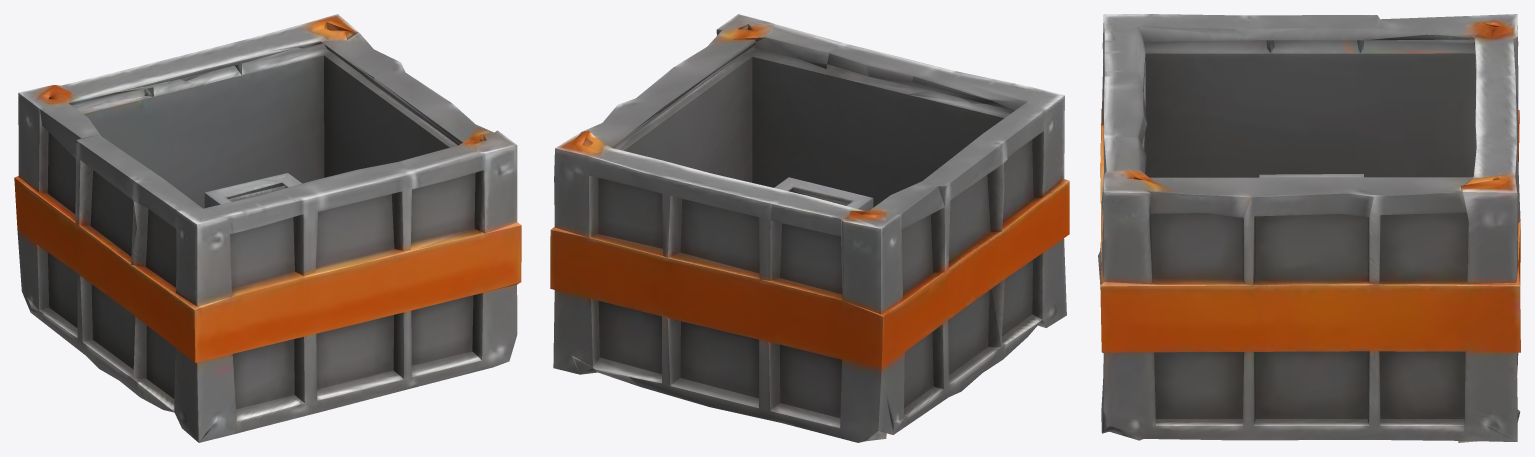
File: m2FactoryCrate.glb
3 renders of one model, left to right at view 1: azimuth 30°, elevation 25°; view 2: azimuth 150°, elevation 25°; view 3: azimuth 270°, elevation 25°, orthographic. The views are drawn at different scales.
Parts seen in each view (by area): view 1: model; view 2: model; view 3: model.
Part boxes in pixels (<box>): model: <box>14,14,521,442</box>; model: <box>550,14,1069,442</box>; model: <box>1098,14,1520,442</box>.
Bounding box in the file's own units: 1.88 × 1.23 × 1.83.
Materials: 1 (1 with a texture image).
